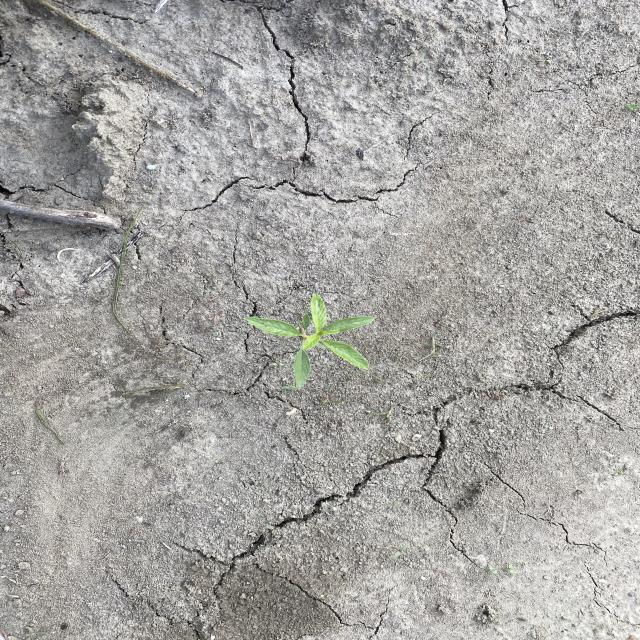Waterhemp: (240, 291, 377, 390)
